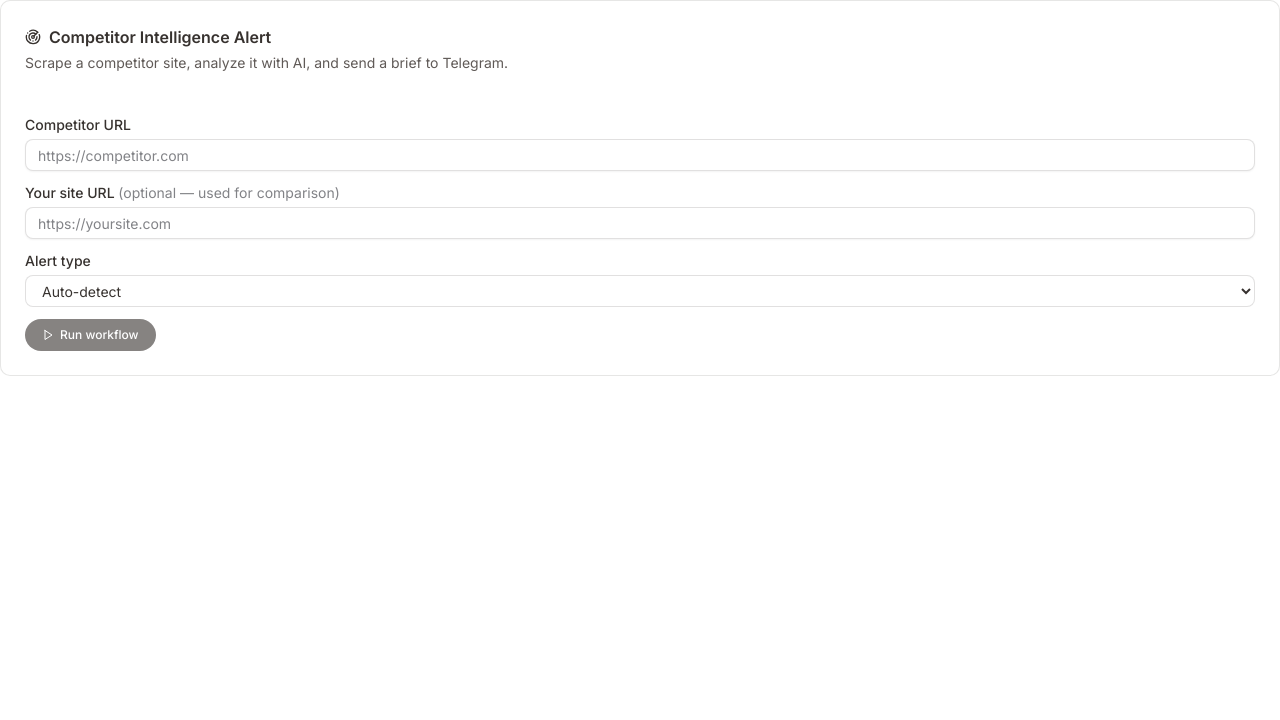
Test: CompetitorAlertPanel › displays the brief preview after a successful run
The image size is (1280, 720).
Type "https://rival.com" into the field with test id "competitor-url-input".
click(640, 155); type("https://rival.com")  # box [25,139,1255,171]
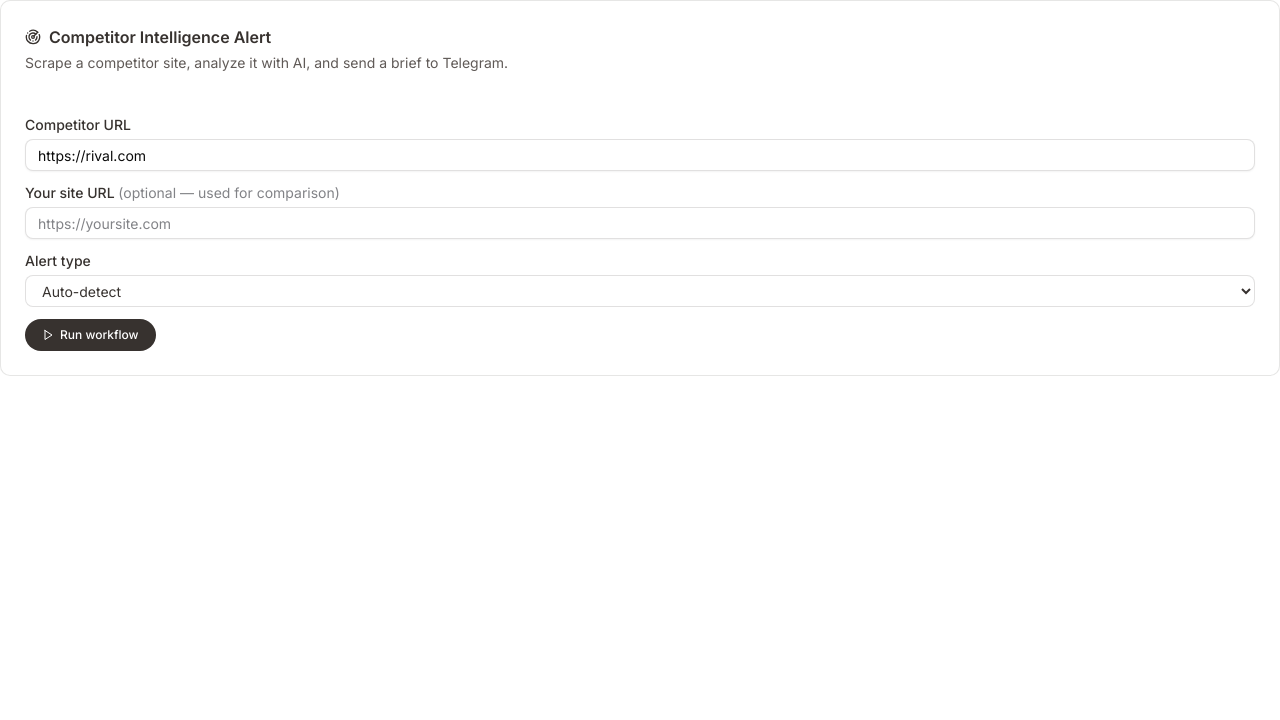
Click the button with test id "run-workflow-button".
click(90, 335)  # box [25,319,156,351]
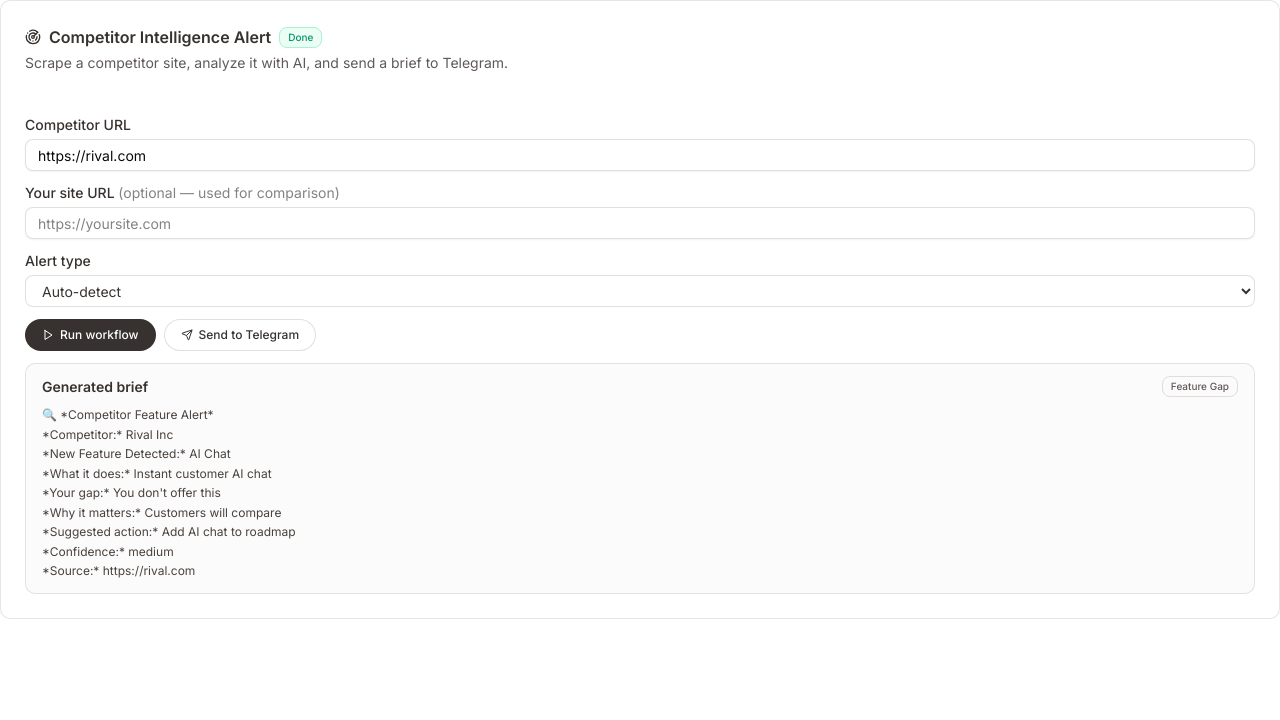
Check: the element with test id "brief-preview" is shown, box [25,363,1255,594]
